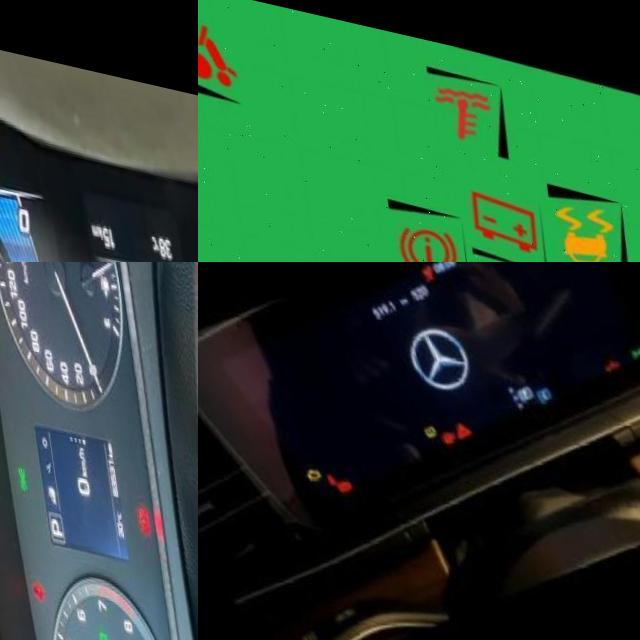Seat Belt: (19, 567, 34, 589)
